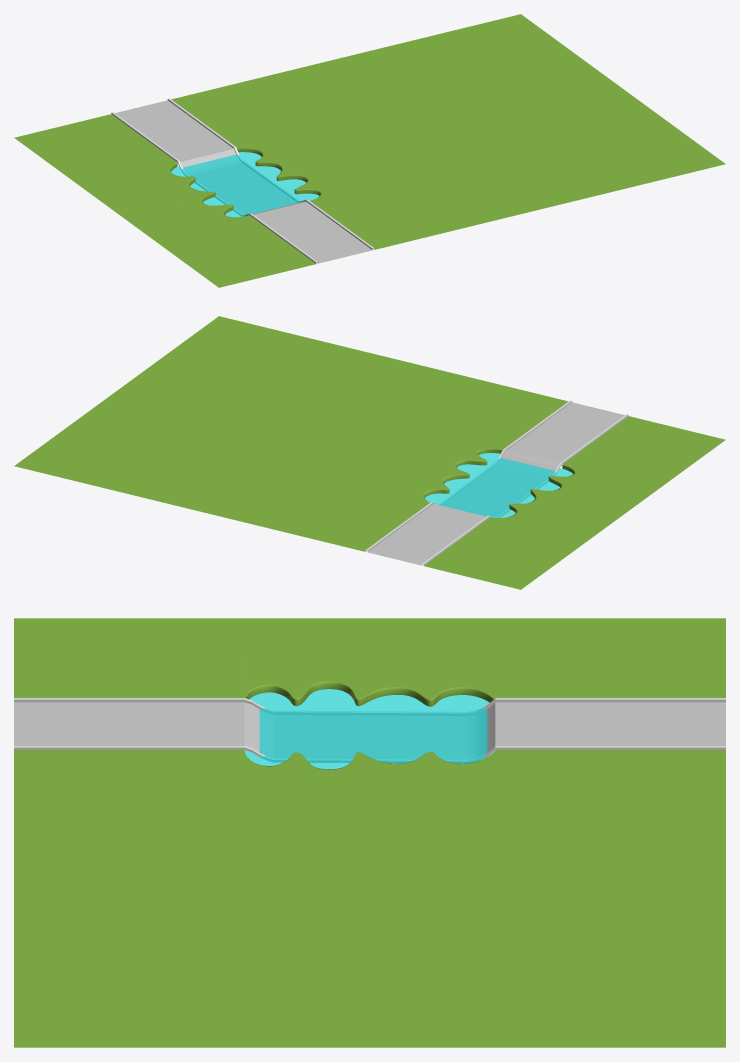
3 views of the same model, one above another, from view 1: azimuth 30°, elevation 25°; view 2: azimuth 150°, elevation 25°; view 3: azimuth 270°, elevation 25° (orthographic). The views are drawn at different scales.
Visible parts, largest first — view 1: Patch_04, Water_patch; view 2: Patch_04, Water_patch; view 3: Patch_04, Water_patch.
Part boxes in pixels (<box>): Patch_04: <box>14,14,725,287</box>; Water_patch: <box>171,152,318,217</box>; Patch_04: <box>14,316,725,589</box>; Water_patch: <box>425,453,572,517</box>; Patch_04: <box>14,618,725,1047</box>; Water_patch: <box>244,689,494,769</box>.
Size of the model in its own units: 404 by 7.21 by 283.
